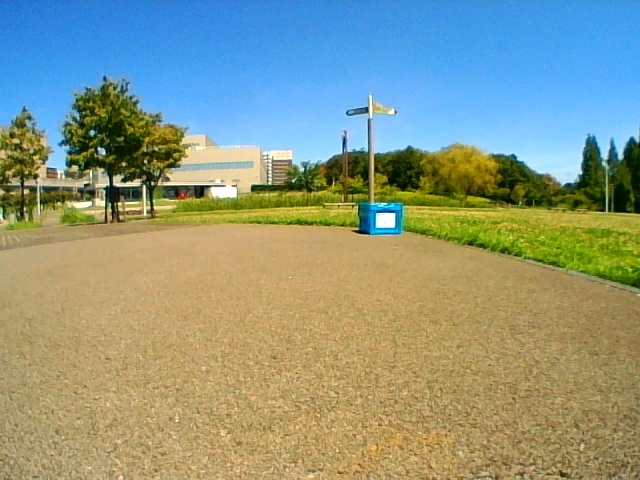blue_box: (360, 204, 403, 234)
tag: (376, 213, 394, 227)
